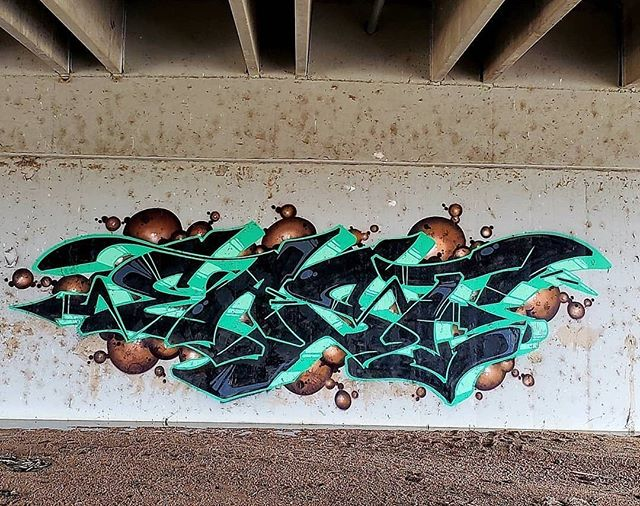graffiti: (28, 167, 606, 423)
